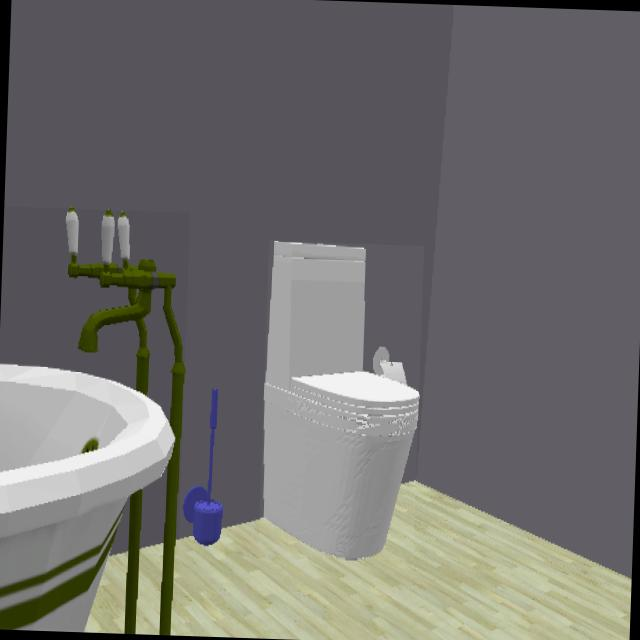bathtube: (0, 208, 184, 632)
toilet: (264, 242, 418, 558)
